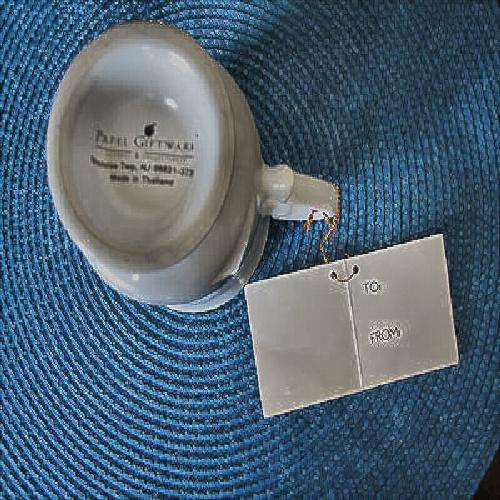mug: (61, 37, 288, 309)
